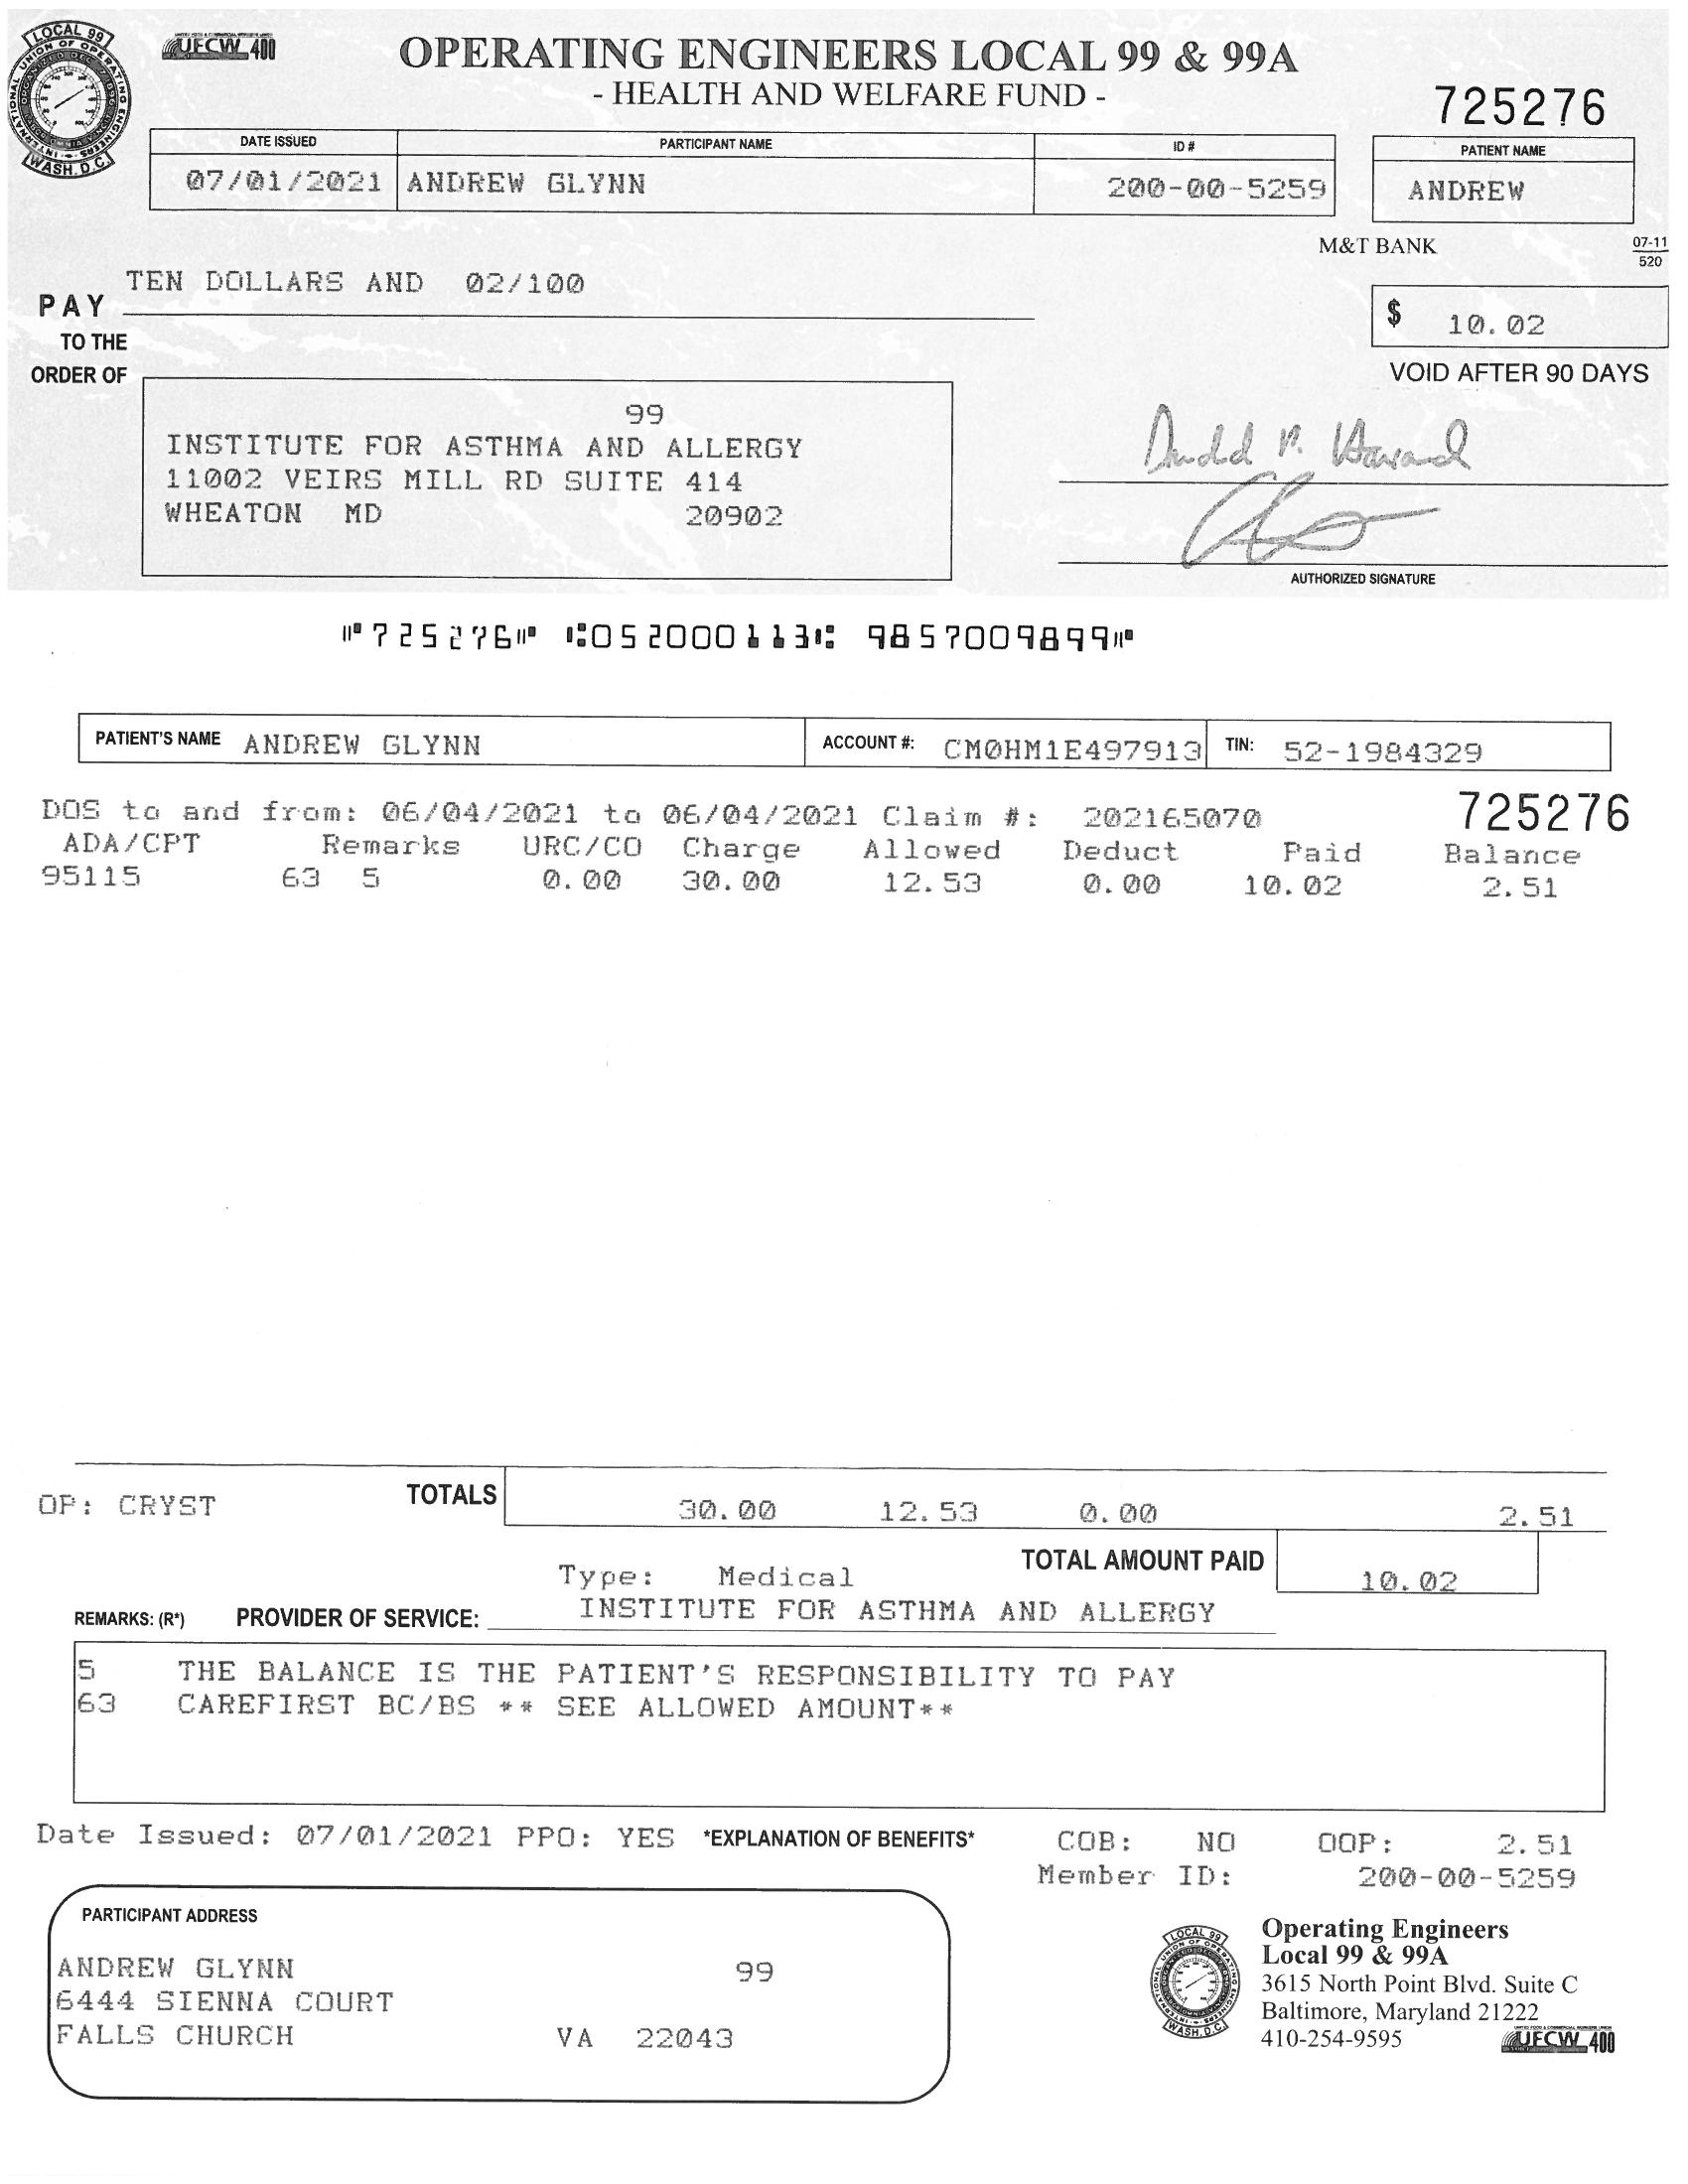table: (20, 773, 1640, 943)
